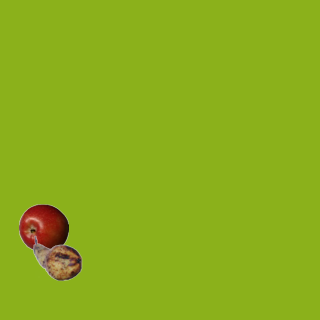Apple Braeburn: (18, 203, 68, 253)
Pear Abate: (32, 233, 82, 283)
